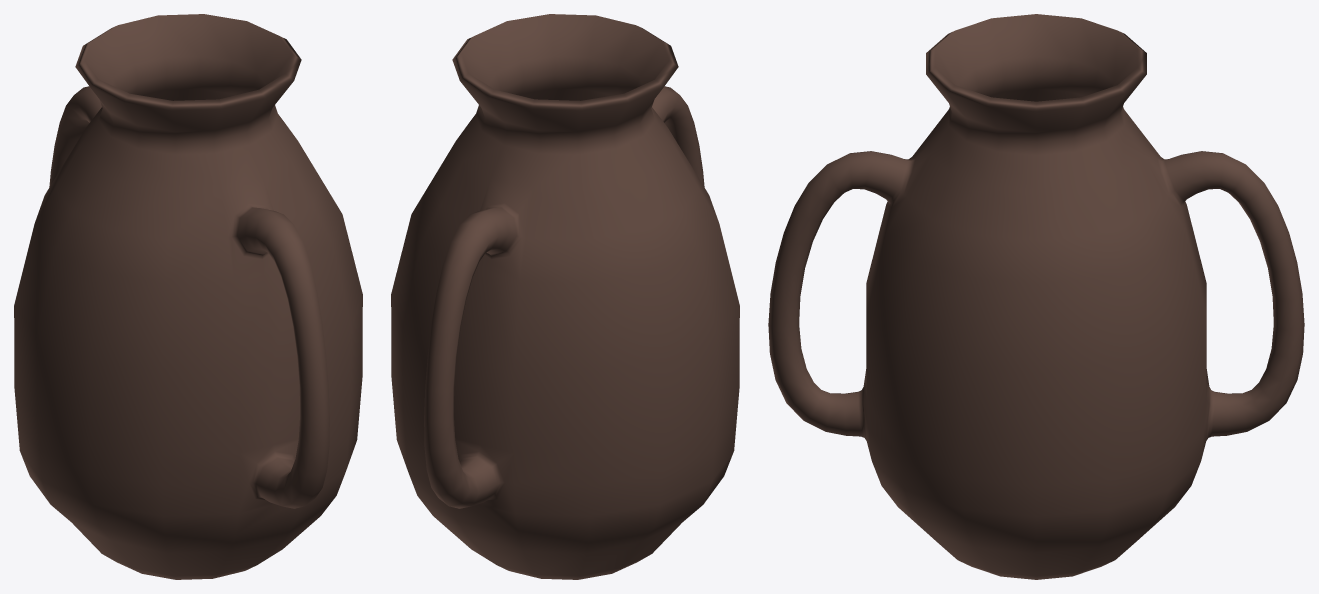
File: Vaso.fbx
3 renders of one model, left to right at view 1: azimuth 30°, elevation 25°; view 2: azimuth 150°, elevation 25°; view 3: azimuth 270°, elevation 25°, orthographic.
Visible parts, largest first — view 1: Low_Mesh; view 2: Low_Mesh; view 3: Low_Mesh.
Part boxes in pixels (x1=…): Low_Mesh: x1=14, y1=14, x2=362, y2=579; Low_Mesh: x1=391, y1=14, x2=739, y2=579; Low_Mesh: x1=768, y1=14, x2=1304, y2=579.
Bounding box in the file's own units: 2.15 × 3.33 × 3.3.
